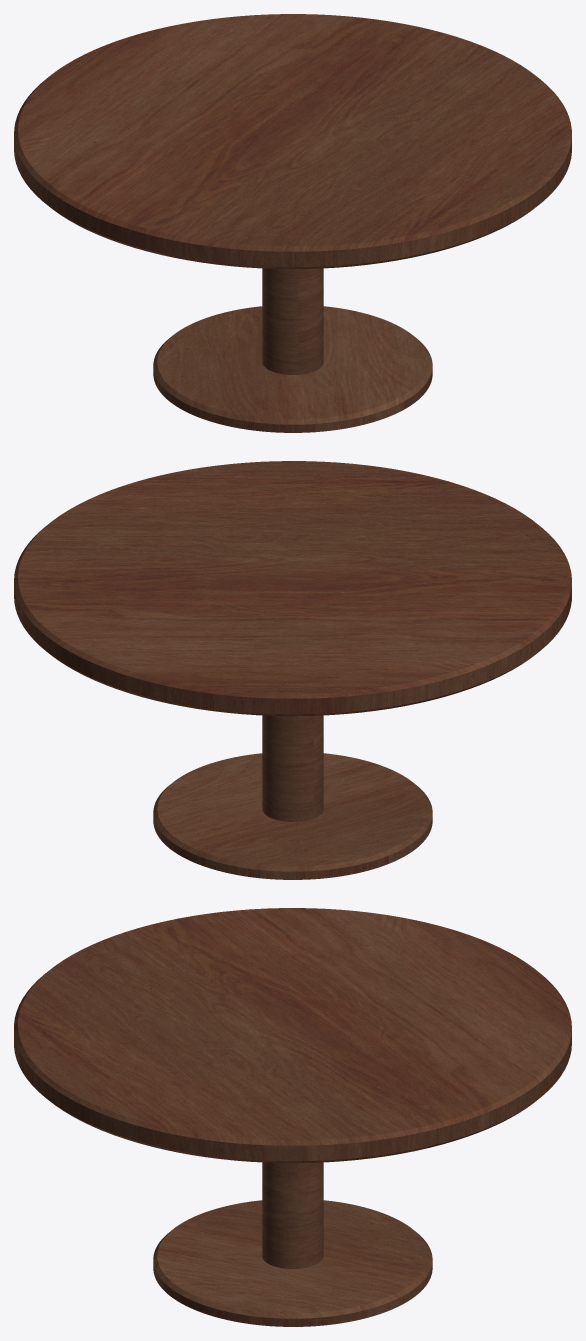
The model's file is table.obj.
3 renders of one model, top to bottom at view 1: azimuth 30°, elevation 25°; view 2: azimuth 150°, elevation 25°; view 3: azimuth 270°, elevation 25°, orthographic.
Visible parts, largest first — view 1: Table_Cylinder; view 2: Table_Cylinder; view 3: Table_Cylinder.
Part boxes in pixels (box(x1,y1,x2,y2)): Table_Cylinder: box(14, 14, 571, 432); Table_Cylinder: box(14, 461, 571, 879); Table_Cylinder: box(14, 908, 571, 1326).
Size of the model in its own units: 7.7 by 3.71 by 7.7.
